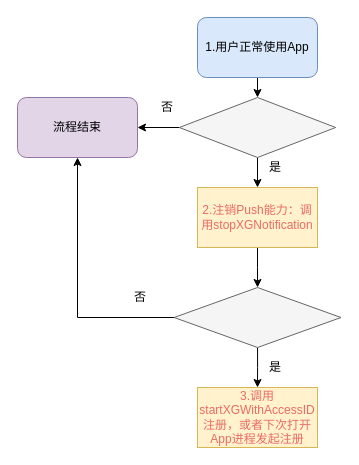
Some shapes in this 359 by 465 pixel diagram are drawn without their labels. Each missing label, with the centre of its shape:
"需要关闭TPNS Push功能" goes at point 257,127.
"需要开启TPNS Push功能" goes at point 257,317.
